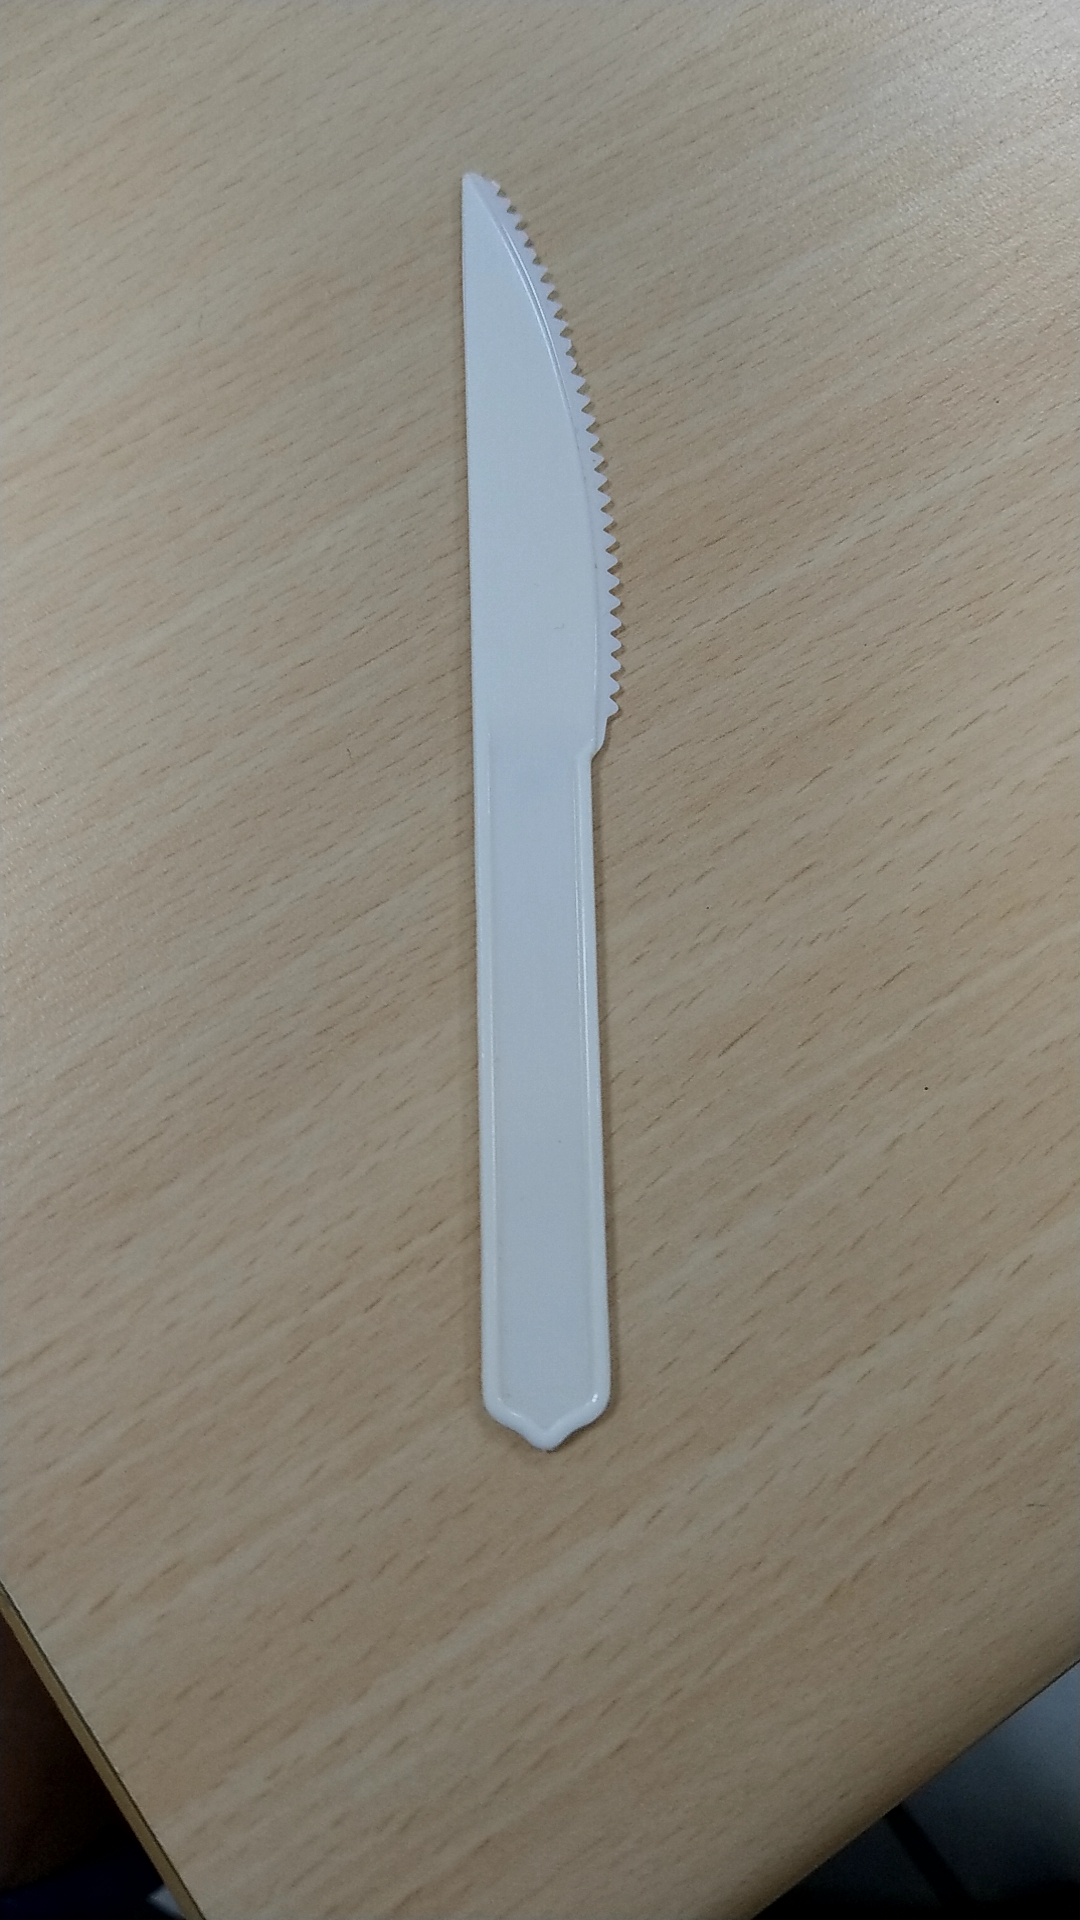knife: (409, 117, 695, 1464)
